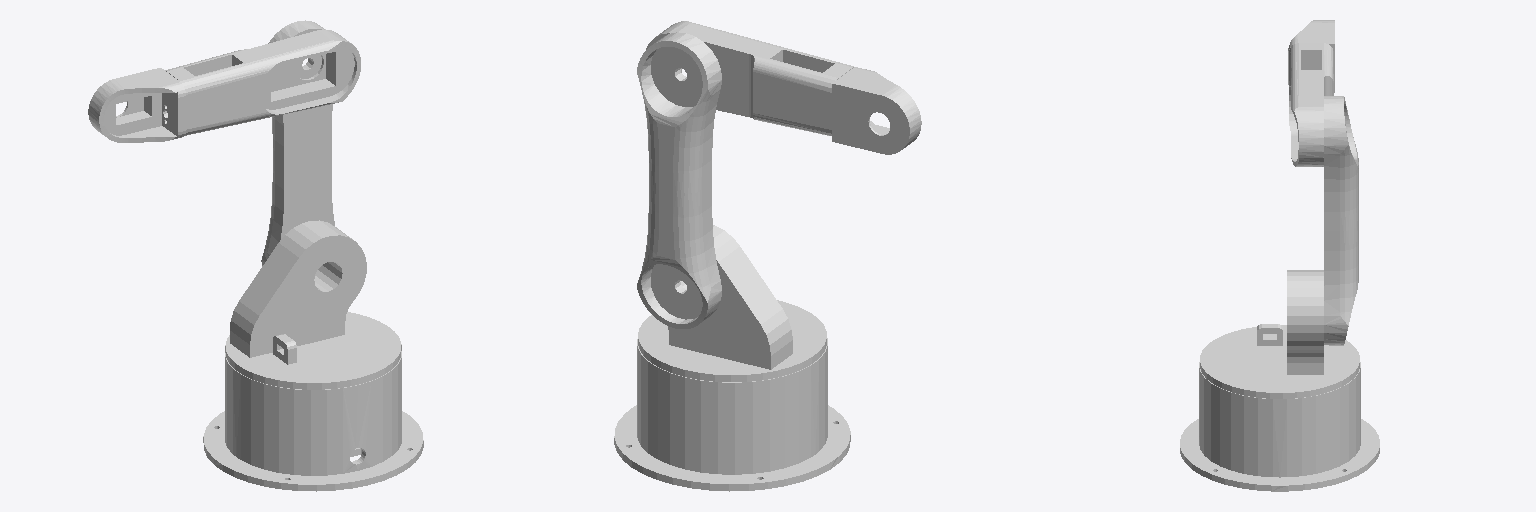
robot.urdf — robot_arm_urdf:
<?xml version="1.0" encoding="utf-8"?>
<!-- This URDF was automatically created by SolidWorks to URDF Exporter! Originally created by Stephen Brawner (brawner@gmail.com) -->
<robot name="robot_arm_urdf">

  <!-- ==================== LINK: BASE ==================== -->
  <link name="Base">
    <inertial>
      <origin xyz="2.1406E-08 -8.8048E-05 0.02233" rpy="0 0 0" />
      <mass value="0.096168" />
      <inertia ixx="0.00013785" ixy="-2.2459E-11" ixz="9.3839E-12" iyy="0.0001281" iyz="-3.8967E-06" izz="0.00020825" />
    </inertial>
    <visual>
      <origin xyz="0 0 0" rpy="0 0 0" />
      <geometry>
        <mesh filename="package://proy_pkg/meshes/Base.STL" />
      </geometry>
      <material name="">
        <color rgba="0.89412 0.89412 0.89412 1" />
      </material>
    </visual>
    <collision>
      <origin xyz="0 0 0" rpy="0 0 0" />
      <geometry>
        <mesh filename="package://proy_pkg/meshes/Base.STL" />
      </geometry>
    </collision>
  </link>

  <!-- ==================== LINK: WAIST ==================== -->
  <link name="Waist">
    <inertial>
      <origin xyz="0.00032299 0.02192 -0.0105" rpy="0 0 0" />
      <mass value="0.099097" />
      <inertia ixx="6.1827E-05" ixy="-8.9414E-06" ixz="5.8103E-07" iyy="6.6824E-05" iyz="9.2193E-06" izz="7.7929E-05" />
    </inertial>
    <visual>
      <origin xyz="0 0 0" rpy="0 0 0" />
      <geometry>
        <mesh filename="package://proy_pkg/meshes/Waist.STL" />
      </geometry>
      <material name="">
        <color rgba="0.89412 0.89412 0.89412 1" />
      </material>
    </visual>
    <collision>
      <origin xyz="0 0 0" rpy="0 0 0" />
      <geometry>
        <mesh filename="package://proy_pkg/meshes/Waist.STL" />
      </geometry>
    </collision>
  </link>

  <!-- ==================== JOINT 1 ==================== -->
  <joint name="joint_1" type="revolute">
    <origin xyz="0 0 0.056" rpy="1.5708 0 0" />
    <parent link="Base" />
    <child link="Waist" />
    <axis xyz="0 1 0" />
    <limit lower="0" upper="3.142" effort="300" velocity="3" />
  </joint>

  <!-- ==================== LINK: ARM 01 ==================== -->
  <link name="Arm01">
    <inertial>
      <origin xyz="-1.4824E-07 0.0083771 0.06" rpy="0 0 0" />
      <mass value="0.072885" />
      <inertia ixx="0.00011555" ixy="4.4239E-11" ixz="6.2462E-11" iyy="0.00012019" iyz="4.0528E-11" izz="9.4221E-06" />
    </inertial>
    <visual>
      <origin xyz="0 0 0" rpy="0 0 0" />
      <geometry>
        <mesh filename="package://proy_pkg/meshes/Arm01.STL" />
      </geometry>
      <material name="">
        <color rgba="0.89412 0.89412 0.89412 1" />
      </material>
    </visual>
    <collision>
      <origin xyz="0 0 0" rpy="0 0 0" />
      <geometry>
        <mesh filename="package://proy_pkg/meshes/Arm01.STL" />
      </geometry>
    </collision>
  </link>

  <!-- ==================== JOINT 2 ==================== -->
  <joint name="joint_2" type="revolute">
    <origin xyz="0.01179 0.04171 -0.0265" rpy="-1.5708 0 0" />
    <parent link="Waist" />
    <child link="Arm01" />
    <axis xyz="0 1 0" />
    <limit lower="-1.57" upper="1.57" effort="200" velocity="3" />
  </joint>

  <!-- ==================== LINK: ARM 02 ==================== -->
  <link name="Arm02">
    <inertial>
      <origin xyz="0.040402 0.0073508 0.00013936" rpy="0 0 0" />
      <mass value="0.05056" />
      <inertia ixx="8.8345E-06" ixy="-2.9546E-07" ixz="-3.1139E-07" iyy="6.0439E-05" iyz="-1.1343E-09" izz="5.7164E-05" />
    </inertial>
    <visual>
      <origin xyz="0 0 0" rpy="0 0 0" />
      <geometry>
        <mesh filename="package://proy_pkg/meshes/Arm02.STL" />
      </geometry>
      <material name="">
        <color rgba="0.89412 0.89412 0.89412 1" />
      </material>
    </visual>
    <collision>
      <origin xyz="0 0 0" rpy="0 0 0" />
      <geometry>
        <mesh filename="package://proy_pkg/meshes/Arm02.STL" />
      </geometry>
    </collision>
  </link>

  <!-- ==================== JOINT 3 ==================== -->
  <joint name="joint_3" type="revolute">
    <origin xyz="0 0 0.12" rpy="0 0 -3.1416" />
    <parent link="Arm01" />
    <child link="Arm02" />
    <axis xyz="0 -1 0" />
    <limit lower="0" upper="3.142" effort="200" velocity="3" />
  </joint>

  <!-- ==================== LINK: ARM 03 ==================== -->
  <link name="Arm03">
    <inertial>
      <origin xyz="0.0050464 -0.0053776 -0.017676" rpy="0 0 0" />
      <mass value="0.01631" />
      <inertia ixx="3.8524E-06" ixy="-4.0659E-09" ixz="-1.1477E-08" iyy="4.9338E-06" iyz="-5.9158E-07" izz="2.554E-06" />
    </inertial>
    <visual>
      <origin xyz="0 0 0" rpy="0 0 0" />
      <geometry>
        <mesh filename="package://proy_pkg/meshes/Arm03.STL" />
      </geometry>
      <material name="">
        <color rgba="0.89412 0.89412 0.89412 1" />
      </material>
    </visual>
    <collision>
      <origin xyz="0 0 0" rpy="0 0 0" />
      <geometry>
        <mesh filename="package://proy_pkg/meshes/Arm03.STL" />
      </geometry>
    </collision>
  </link>

  <!-- ==================== JOINT 4 ==================== -->
  <joint name="joint_4" type="revolute">
    <origin xyz="0.08975 0.0075 -0.0053" rpy="0 -1.5708 0" />
    <parent link="Arm02" />
    <child link="Arm03" />
    <axis xyz="0 0 -1" />
    <!-- LÍMITES CORREGIDOS AQUÍ (lower < upper) -->
    <limit lower="-3.142" upper="0" effort="200" velocity="3" />
  </joint>

</robot>

--- What the picture shows (computed from the rendered views, not written in the file) ---
Views: 3 orthographic renders of the robot side by side, from view 1: azimuth 30°, elevation 25°; view 2: azimuth 150°, elevation 25°; view 3: azimuth 270°, elevation 25°.
Robot: robot_arm_urdf — 5 links, 4 joints (4 revolute); root link Base; default pose: all joints at 0.
Links seen in each view (by area): view 1: Base, Waist, Arm02, Arm01, Arm03; view 2: Base, Arm01, Waist, Arm02, Arm03; view 3: Base, Waist, Arm01, Arm02, Arm03.
Link boxes in pixels (box(x1,y1,x2,y2)): Base: box(203, 351, 423, 491); Waist: box(225, 220, 401, 389); Arm02: box(165, 29, 360, 135); Arm01: box(261, 20, 334, 265); Arm03: box(88, 68, 185, 142); Base: box(614, 338, 850, 491); Arm01: box(637, 32, 721, 328); Waist: box(638, 225, 826, 381); Arm02: box(646, 21, 853, 135); Arm03: box(832, 67, 921, 154); Base: box(1180, 362, 1379, 491); Waist: box(1200, 270, 1359, 398); Arm01: box(1324, 96, 1358, 345); Arm02: box(1289, 43, 1333, 166); Arm03: box(1288, 20, 1334, 92).
Size in the robot's own frame: 0.1846 by 0.1213 by 0.2387 metres.
Meshes: 5 distinct files referenced, 5 mesh visuals loaded (5 binary STL).
